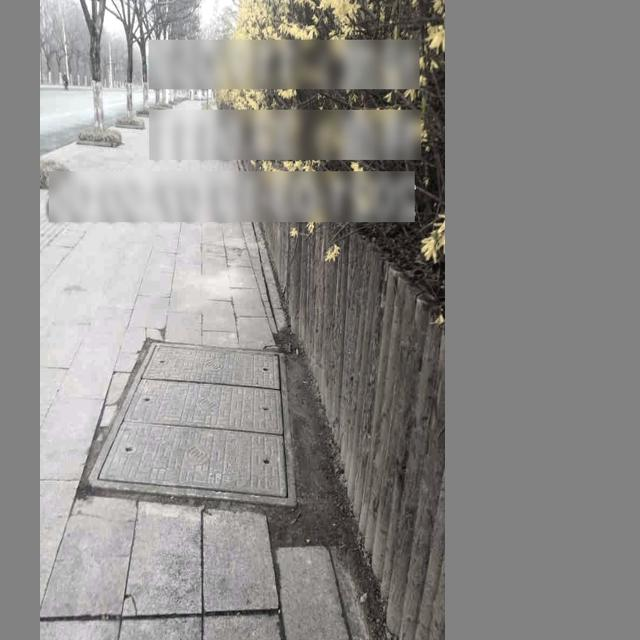good: (83, 340, 295, 505)
